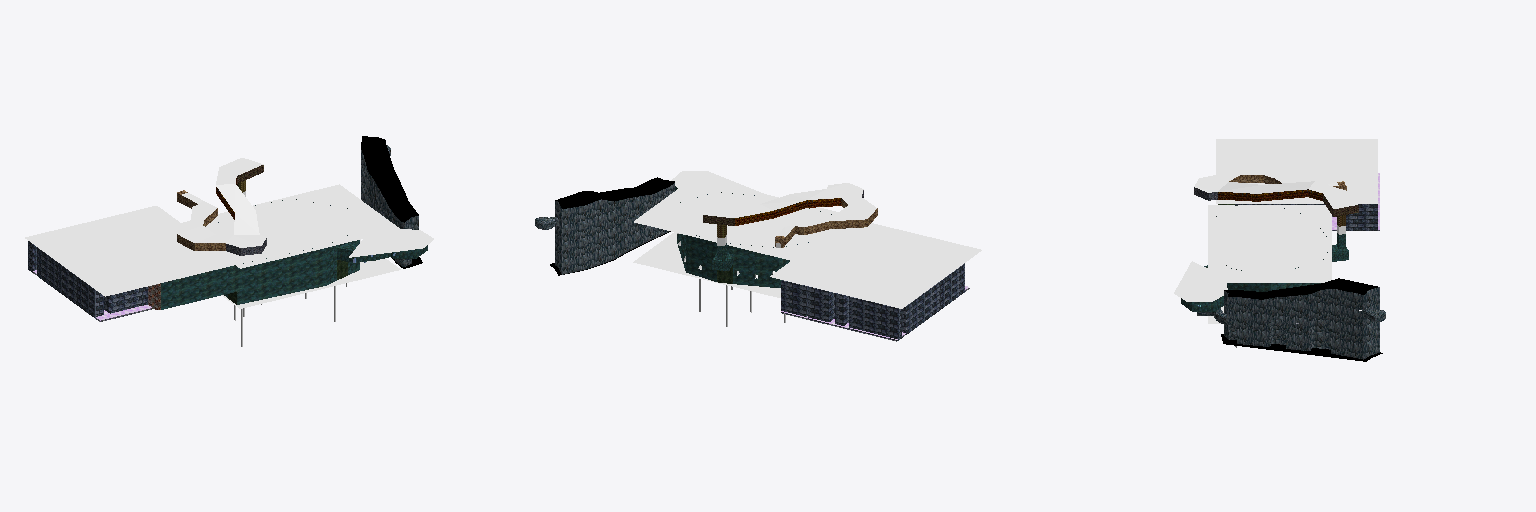
3 renders of one model, left to right at view 1: azimuth 30°, elevation 25°; view 2: azimuth 150°, elevation 25°; view 3: azimuth 270°, elevation 25°, orthographic.
Parts seen in each view (by area): view 1: Mesh_ModelUpdated; view 2: Mesh_ModelUpdated; view 3: Mesh_ModelUpdated.
Boxes of the visible parts, x1=… form: Mesh_ModelUpdated: x1=25, y1=136, x2=433, y2=346; Mesh_ModelUpdated: x1=535, y1=171, x2=981, y2=341; Mesh_ModelUpdated: x1=1174, y1=139, x2=1385, y2=361.
Size of the model in its own units: 9.07 by 3.01 by 4.57.
31 materials, 25 textured.